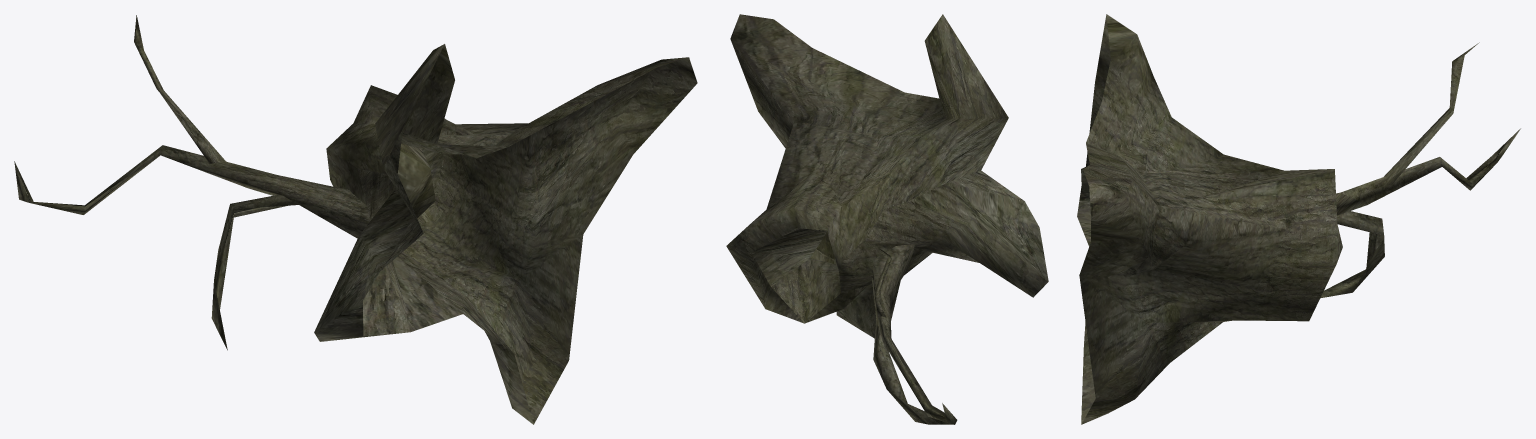
File: TI_Old_Tree_08_LOD_02.fbx
The picture shows the model from 3 angles, left to right: view 1: azimuth 30°, elevation 25°; view 2: azimuth 150°, elevation 25°; view 3: azimuth 270°, elevation 25°; orthographic projection. The views are drawn at different scales.
Parts seen in each view (by area): view 1: TI_Old_Tree_08_LOD_02; view 2: TI_Old_Tree_08_LOD_02; view 3: TI_Old_Tree_08_LOD_02.
Boxes of the visible parts, left/top/right/bottom form: TI_Old_Tree_08_LOD_02: left=14, top=15, right=697, bottom=424; TI_Old_Tree_08_LOD_02: left=726, top=14, right=1048, bottom=424; TI_Old_Tree_08_LOD_02: left=1077, top=14, right=1520, bottom=424.
Size of the model in its own units: 4.49 by 3.6 by 3.87.
